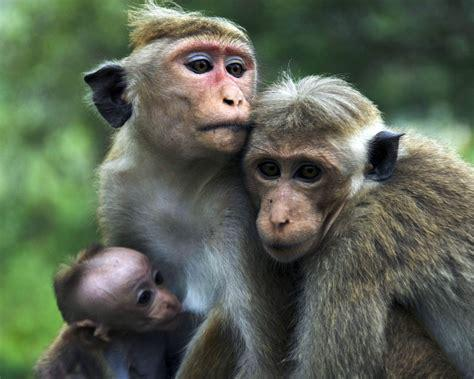monkey: (82, 12, 287, 378), (248, 78, 472, 379), (31, 246, 182, 379)
